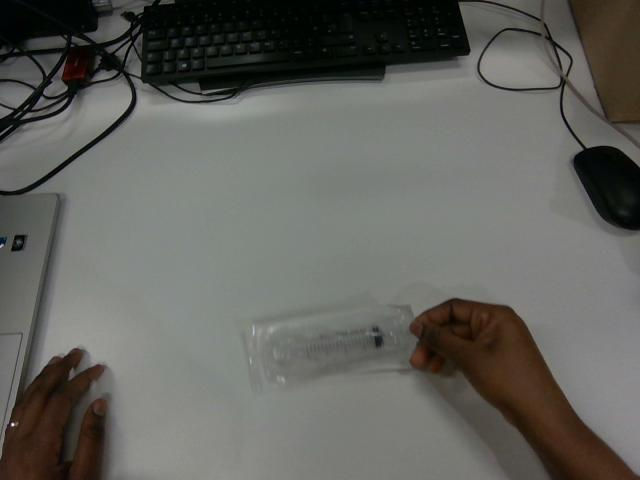syringe: (244, 305, 414, 390)
